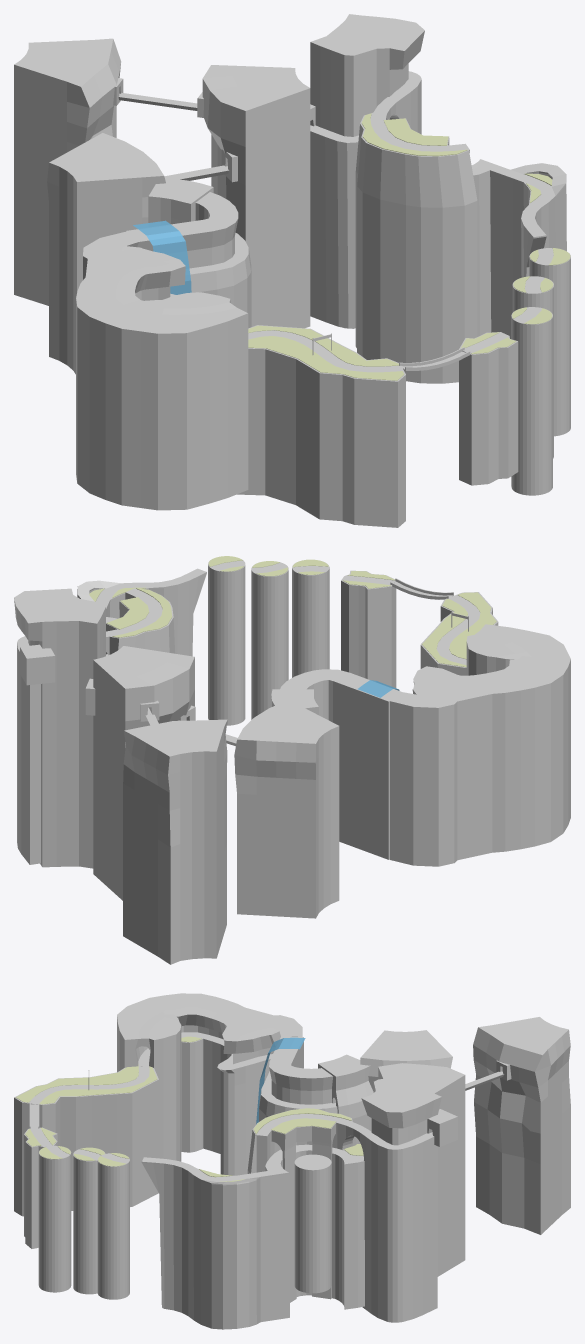
Rendered from LD 2 - Canyon track v05.fbx.
The picture shows the model from 3 angles, top to bottom: view 1: azimuth 30°, elevation 25°; view 2: azimuth 150°, elevation 25°; view 3: azimuth 270°, elevation 25°; orthographic projection. The views are drawn at different scales.
Parts seen in each view (by area): view 1: Cube.010, Cube.017, Cube.007, Cube, Cube.019, Cube.004, Cube.003, Cube.021, Cube.006, Cube.008, Cylinder, Cylinder.002 (+8 smaller); view 2: Cube.010, Cube.004, Cube.003, Cube.021, Cube, Cube.006, Cube.017, Cylinder.002, Cube.008, Cylinder.001, Cylinder, Cube.019 (+6 smaller); view 3: Cube.019, Cube.010, Cube.004, Cube.017, Cube.007, Cube.006, Cube, Cylinder.009, Cylinder, Cylinder.002, Cube.021, Cylinder.001 (+9 smaller).
Part boxes in pixels (<box>): Cube.010: <box>76,231,248,510</box>; Cube.017: <box>355,71,477,383</box>; Cube.007: <box>237,325,405,527</box>; Cube: <box>202,65,310,328</box>; Cube.019: <box>310,125,566,338</box>; Cube.004: <box>14,38,121,305</box>; Cube.003: <box>47,133,165,374</box>; Cube.021: <box>310,14,424,328</box>; Cube.006: <box>125,178,251,328</box>; Cube.008: <box>459,332,518,485</box>; Cylinder: <box>511,307,552,495</box>; Cylinder.002: <box>529,248,570,436</box>; Cube.010: <box>390,624,570,866</box>; Cube.004: <box>123,719,227,964</box>; Cube.003: <box>234,700,339,918</box>; Cube.021: <box>14,588,105,868</box>; Cube: <box>93,646,194,900</box>; Cube.006: <box>271,669,402,859</box>; Cube.017: <box>17,588,175,864</box>; Cylinder.002: <box>208,560,245,725</box>; Cube.008: <box>341,570,396,687</box>; Cylinder.001: <box>251,562,288,719</box>; Cylinder: <box>292,562,329,677</box>; Cube.019: <box>77,568,206,656</box>; Cube.019: <box>141,1144,364,1329</box>; Cube.010: <box>117,993,302,1175</box>; Cube.004: <box>473,1017,570,1234</box>; Cube.017: <box>247,1108,437,1322</box>; Cube.007: <box>14,1066,158,1216</box>; Cube.006: <box>259,1036,373,1143</box>; Cube: <box>378,1063,465,1276</box>; Cylinder.009: <box>294,1154,331,1293</box>; Cylinder: <box>38,1145,71,1292</box>; Cylinder.002: <box>97,1153,129,1299</box>; Cube.021: <box>361,1075,441,1145</box>; Cylinder.001: <box>73,1149,105,1294</box>.
Size of what is drawn, in the model's own units: 9331 by 4866 by 11439.
